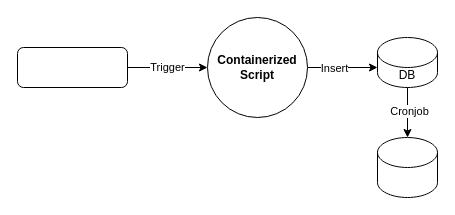
This 455x215 diagram has some shape labels left out. Each missing label, with the box of its shape:
Dune: (376, 136, 438, 198)
SettlementEvent: (16, 46, 128, 88)
